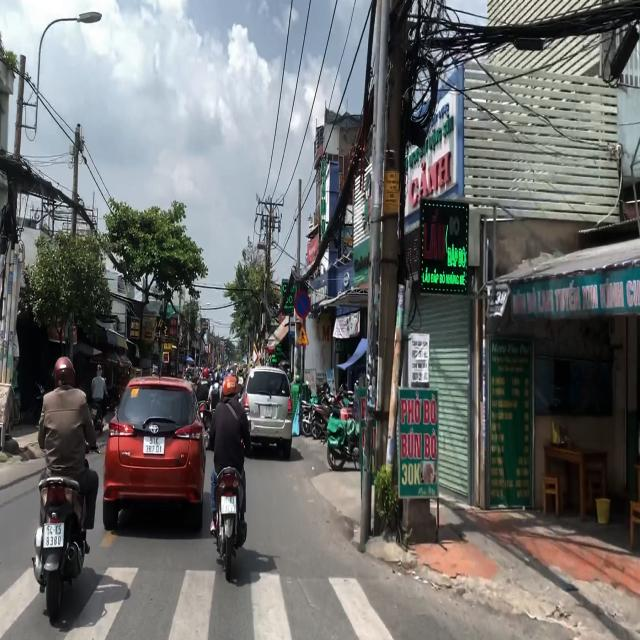Cam do: (294, 290, 310, 319)
Nguoi di bo cat ngang: (297, 322, 309, 345)
